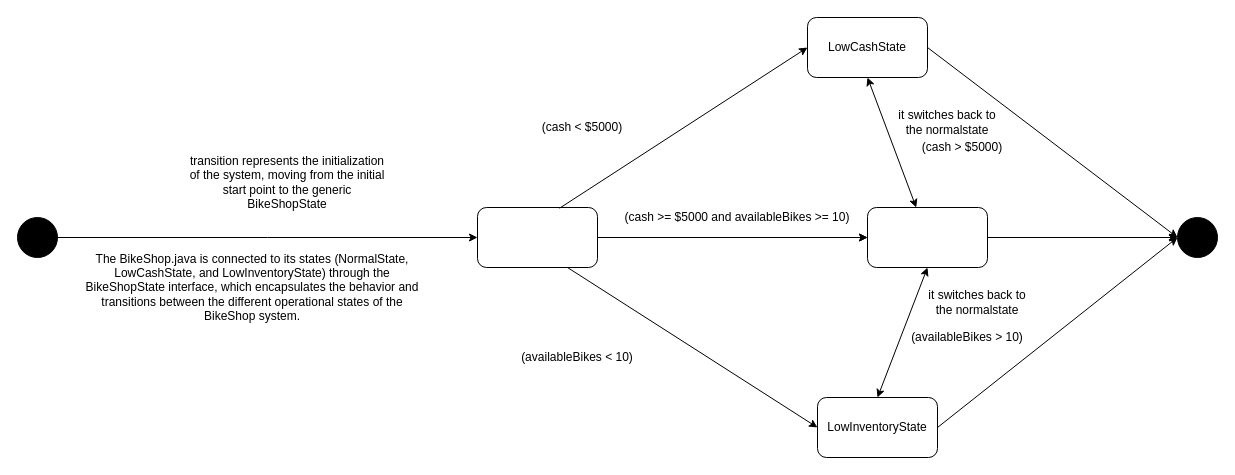
Image size: 1235x475. Some labels were removed from this diagram. The centre of each missing label's shape, as x and y in pixels:
BikeShopState: point 537,237
NormalState: point 927,237
